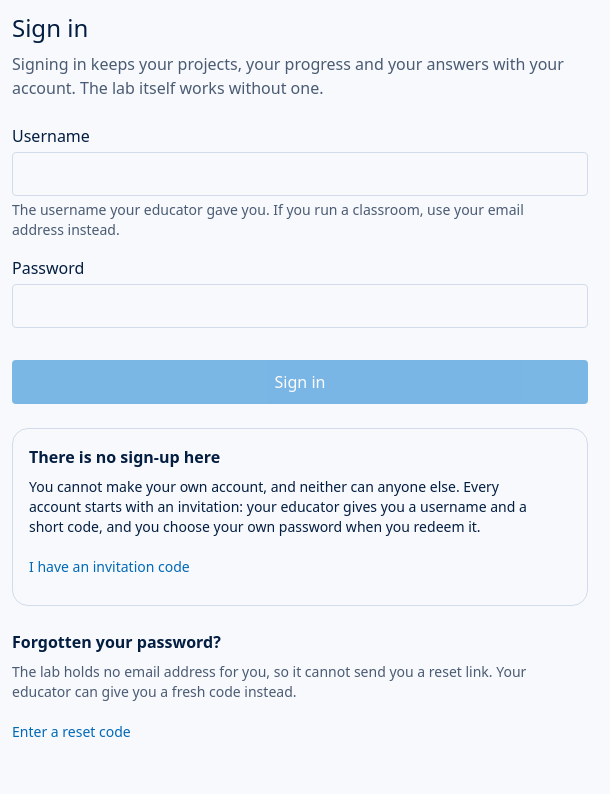
sign-in (FR-024, R16) › tells a learner on a dropped connection that her local work is unaffected
This screenshot has width=610, height=794.
In the field labelled "Username": (300, 174) [12,152,588,196], type "learner-1"
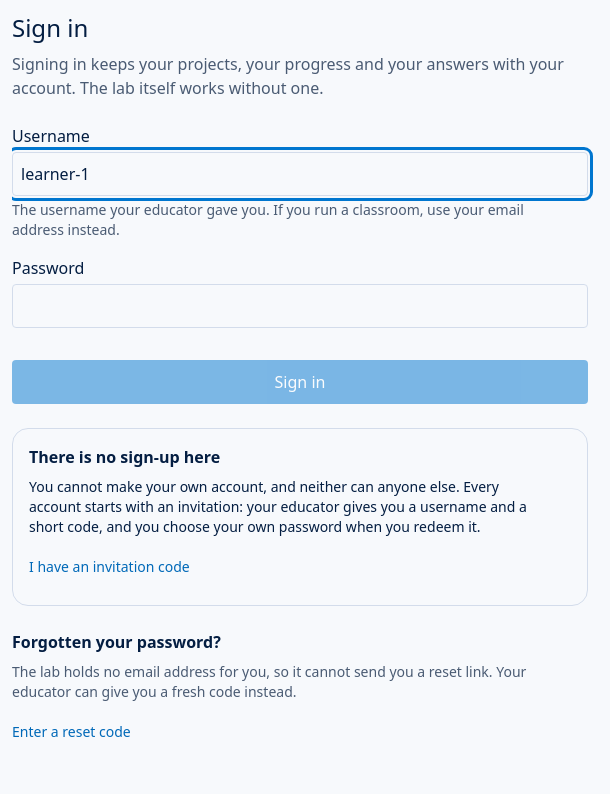
In the password field labelled "Password": (300, 306) [12,284,588,328], type "a-good-password"
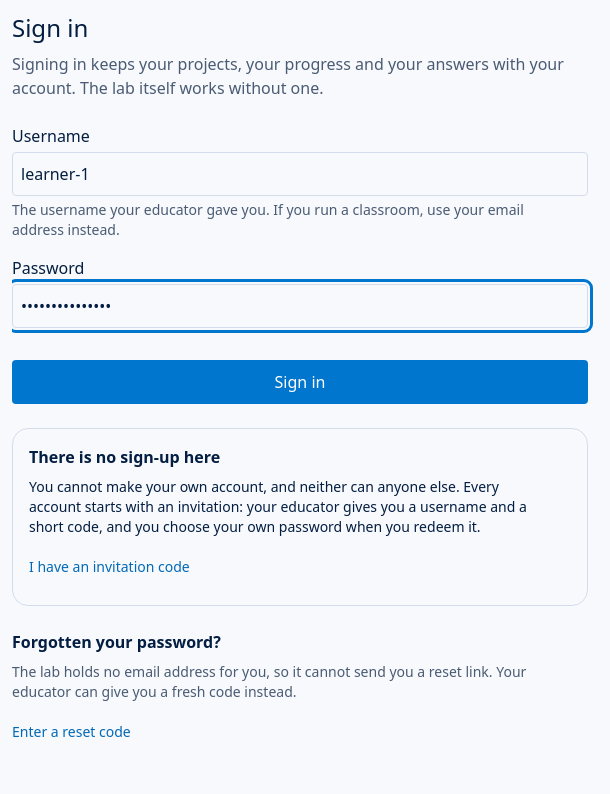
Click the button "Sign in": (300, 382) [12,360,588,404]
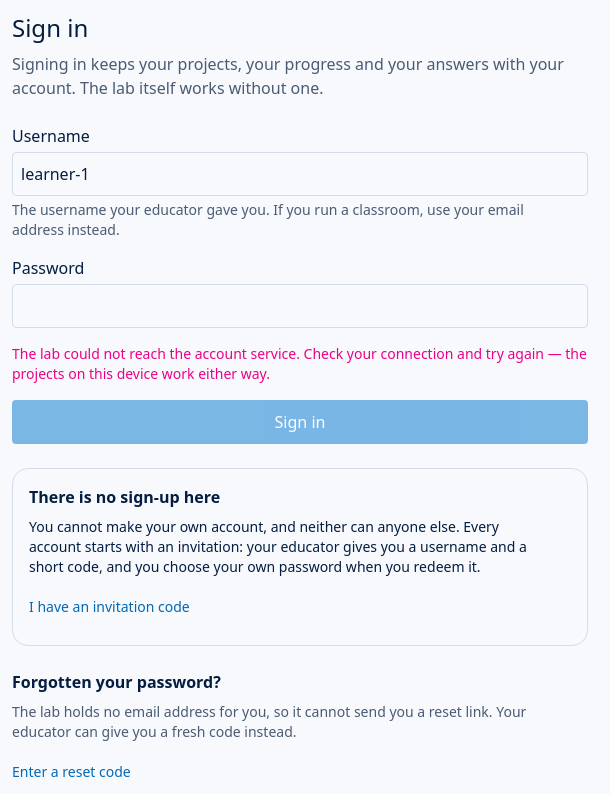
Expected: the text "could not reach the account service" is shown, [12,344,587,383]
